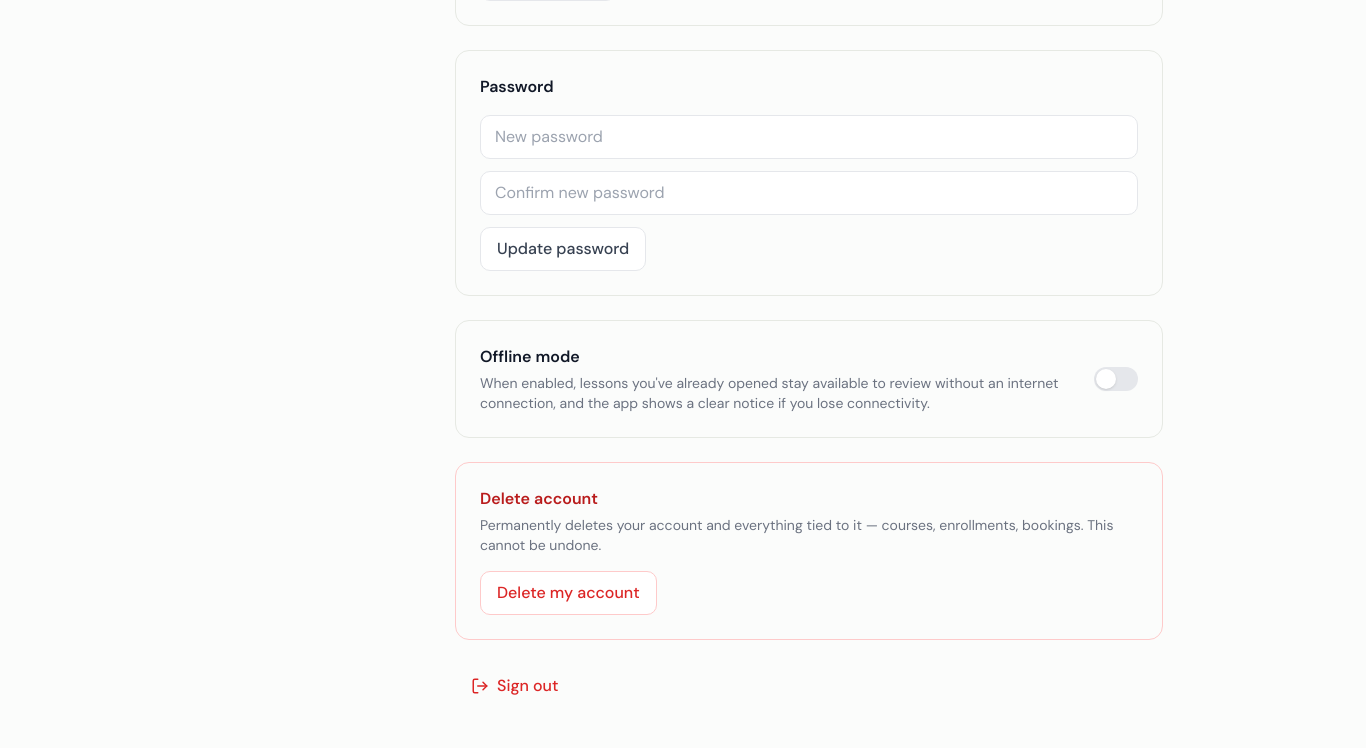
Scenario: AccountSettings › delete account › opens a confirmation dialog before deleting
This screenshot has width=1366, height=748.
(page scrolled)
Click the button "Delete my account". click: [568, 592]
box: [480,570,657,614]
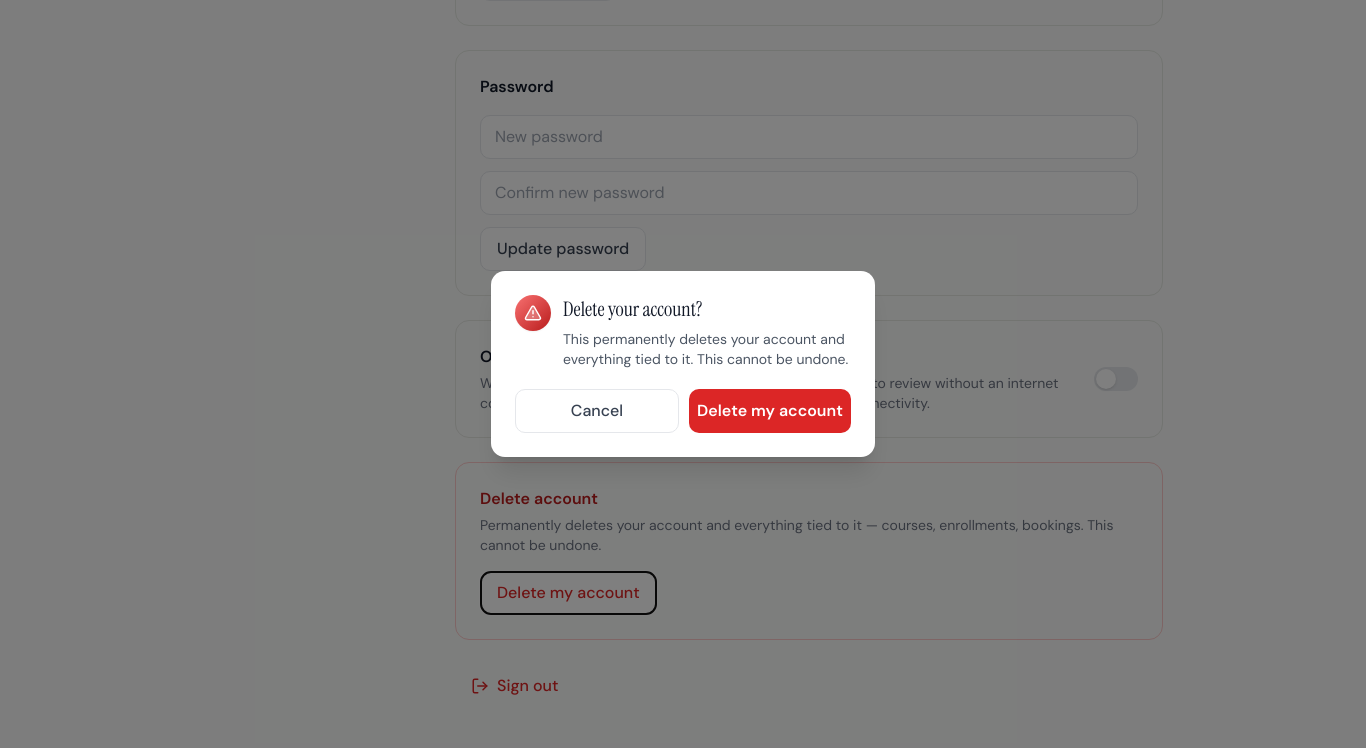
Now the dialog is shown, box [491,271,875,457]
